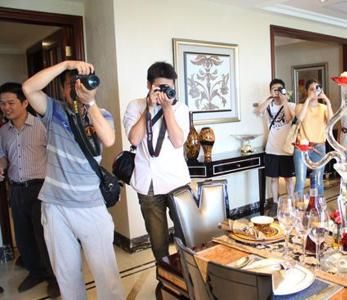person: (22, 60, 127, 300)
